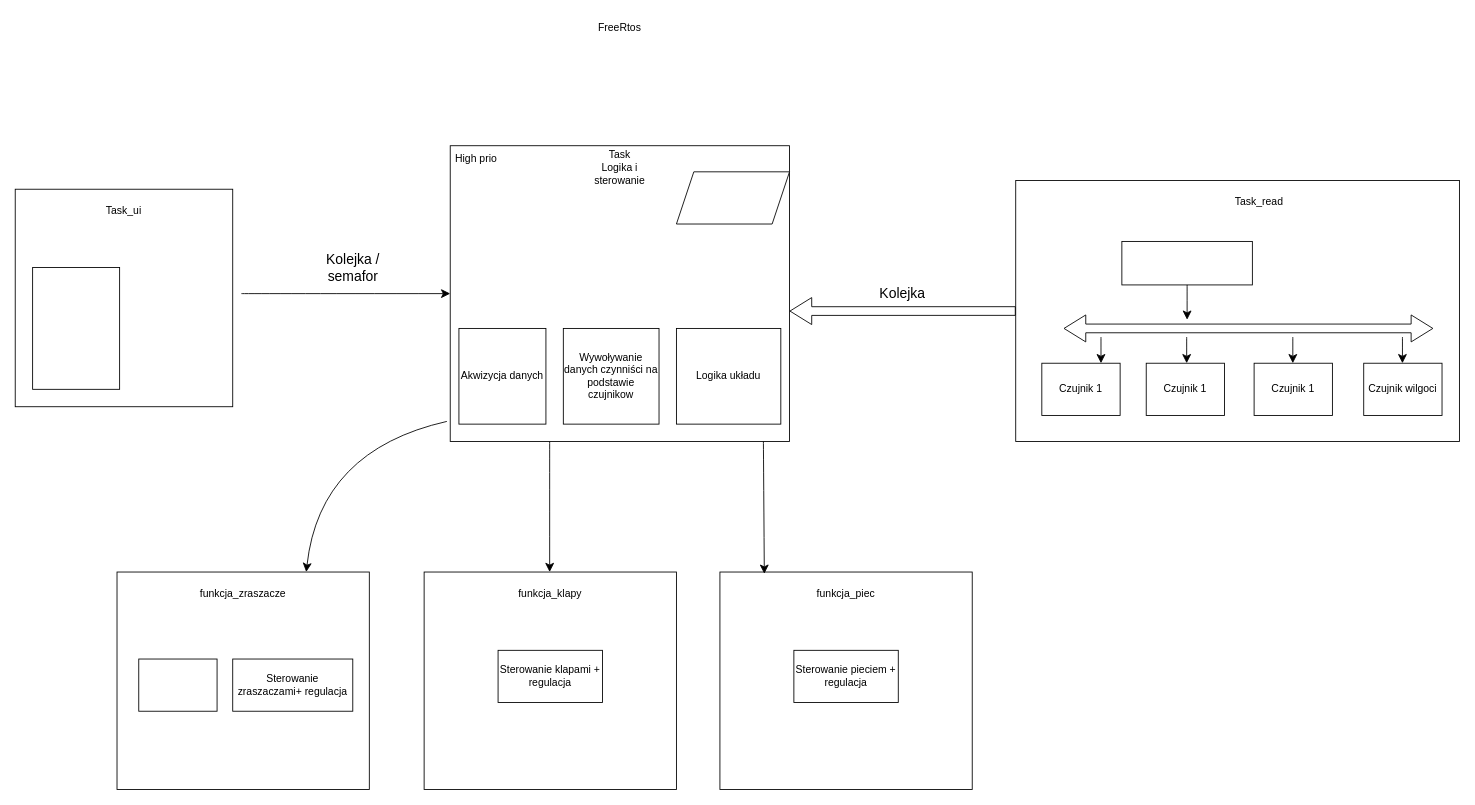
This 1475x805 diagram has some shape labels left out. Here are the shapes that lost their labels. From the top down, the box of each, then its label:
(676, 171, 790, 224): Logika po czasie na timerach
(1121, 241, 1252, 285): Pomiar czujnikow
(32, 267, 120, 389): Obsluga interfejsu użytkownika
(138, 658, 217, 711): włacz timer
